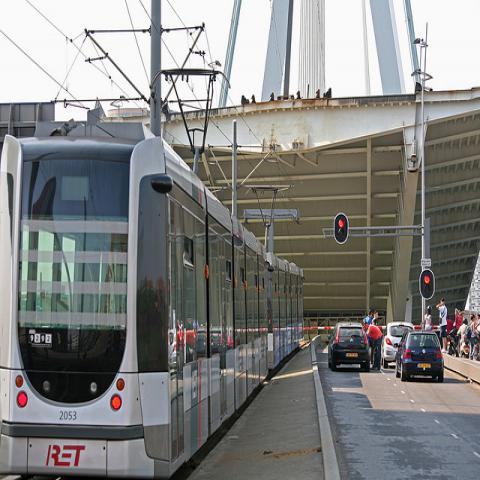car: (394, 330, 444, 385), (328, 322, 370, 374), (381, 320, 415, 368)
motorcycle: (446, 322, 460, 357), (460, 336, 471, 358)
